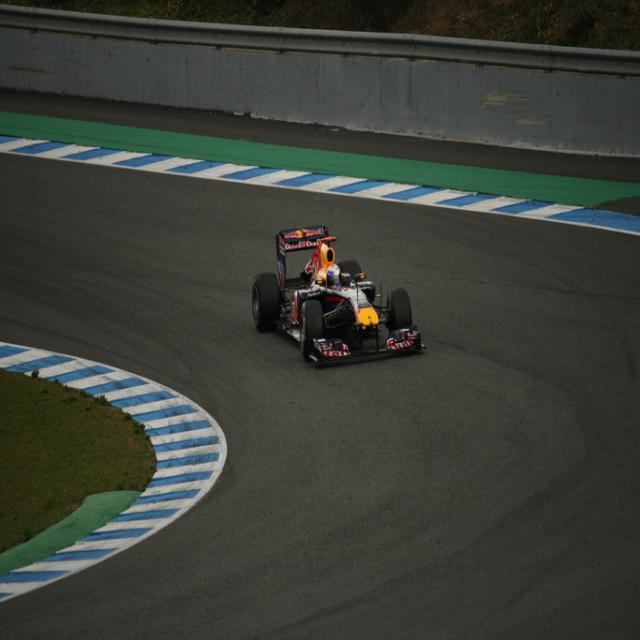car: (258, 230, 410, 366)
